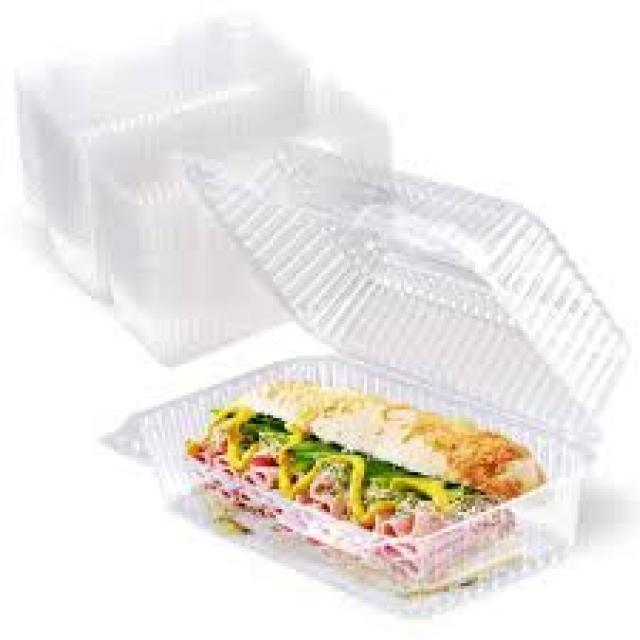disposable: (144, 341, 618, 621)
